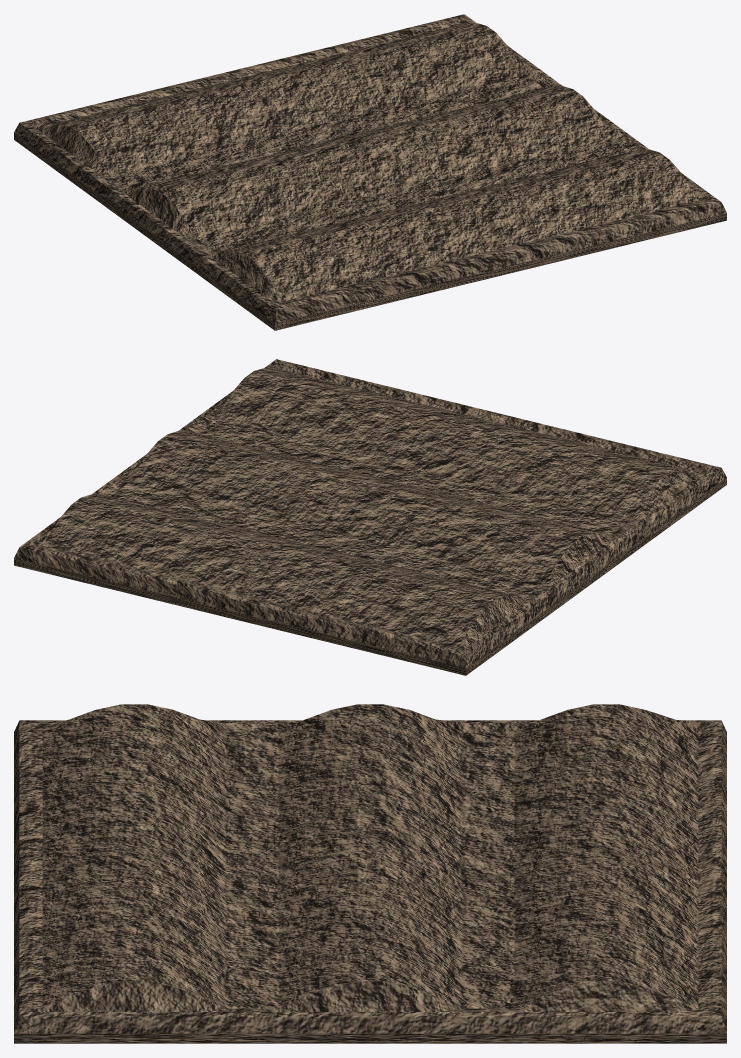
The model's file is Field_.fbx.
The picture shows the model from 3 angles, top to bottom: view 1: azimuth 30°, elevation 25°; view 2: azimuth 150°, elevation 25°; view 3: azimuth 270°, elevation 25°; orthographic projection. The views are drawn at different scales.
Visible parts, largest first — view 1: Fliese; view 2: Fliese; view 3: Fliese.
Part boxes in pixels (<box>): Fliese: <box>14,14,726,330</box>; Fliese: <box>14,359,726,675</box>; Fliese: <box>14,704,726,1043</box>.
Bounding box in the file's own units: 166 × 12.88 × 166.
